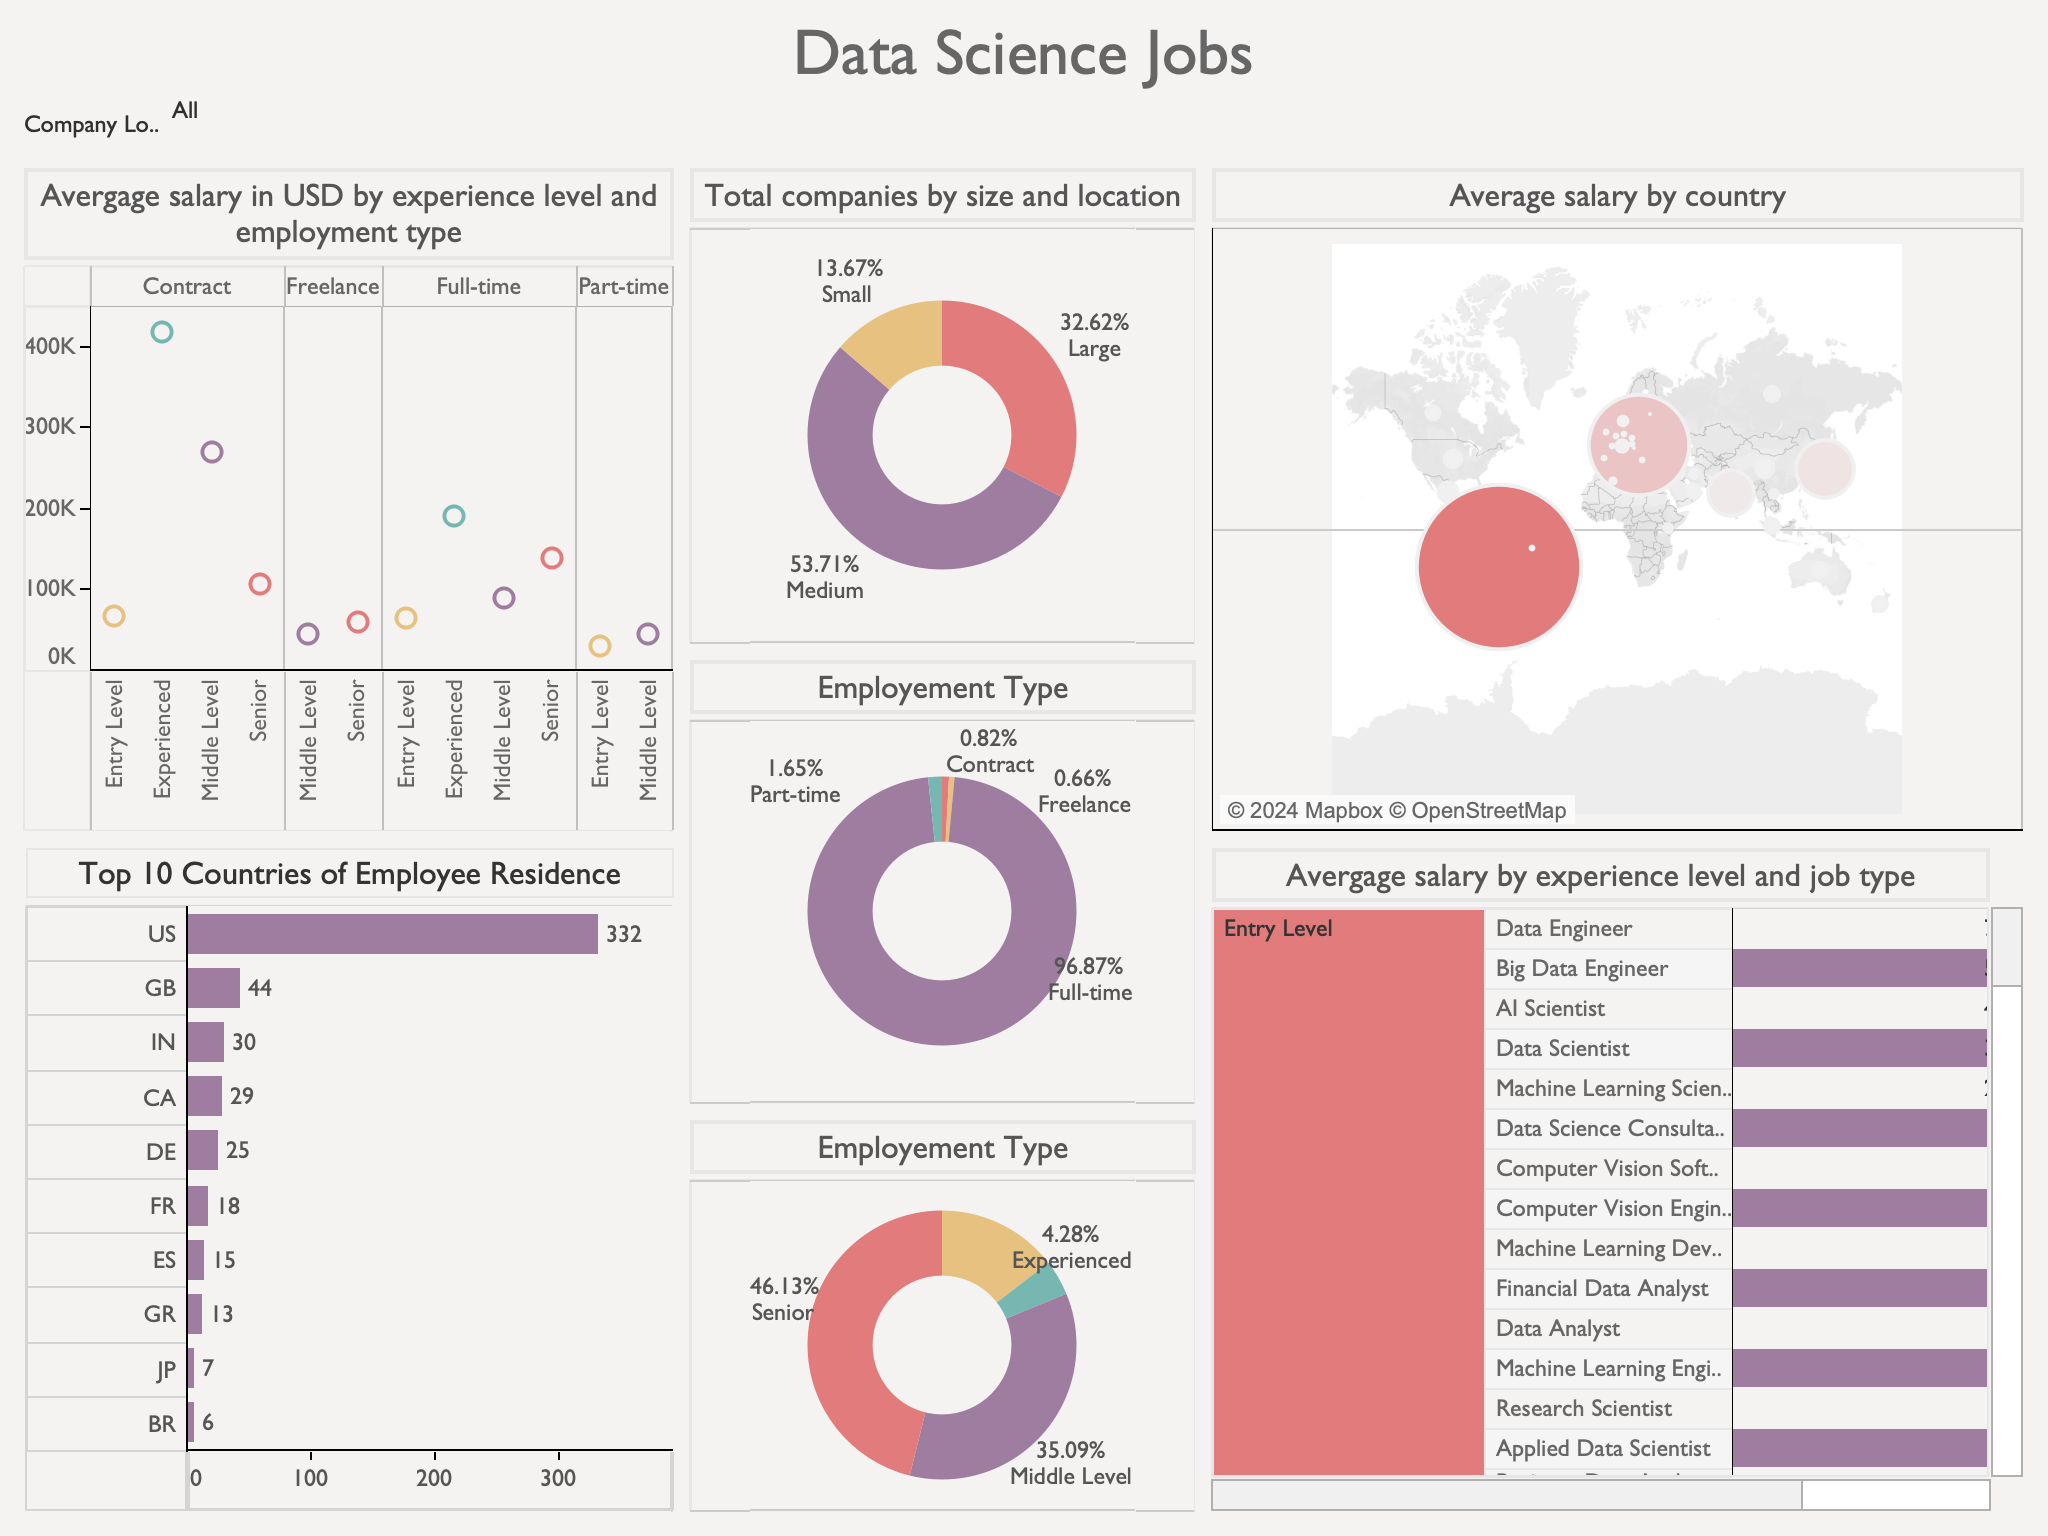

What the dashboard file says about the page in this screenshot:
{"tool":"tableau","page":{"name":"Dashboard 1","canvas":[1024,768],"ordinal":0},"visuals":[{"type":"text","box":[8,8,1008,36]},{"type":"filter","title":"Average salary","param":"[federated.14panq51umtqo319j6tvi06lqgd4].[none:company_location:nk]","box":[8,44,1008,36]},{"type":"worksheet","title":"Average salary","mark":"Shape","rows":["salary_in_usd"],"cols":["employment_type","experience_level"],"box":[8,79.9,333.2,340]},{"type":"worksheet","title":"Total companies by size and location","mark":"Pie","rows":["Calculation_1144055046649782273","Calculation_1144055046650032131"],"box":[341.2,79.9,261.1,245.7]},{"type":"worksheet","title":"map","mark":"Automatic","box":[602.4,79.9,413.6,340]},{"type":"worksheet","title":"Employment Type","mark":"Pie","rows":["Calculation_1144055046649782273","Calculation_1144055046650032131"],"box":[341.2,325.6,261.1,230.5]},{"type":"worksheet","title":"Job and experience","mark":"Automatic","rows":["experience_level","job_title"],"box":[602.4,419.9,413.6,340.1]},{"type":"worksheet","title":"Top 10 countries","mark":"Automatic","rows":["employee_residence"],"cols":["employee_residence"],"box":[8,420,333.2,340]},{"type":"worksheet","title":"Experience level 2","mark":"Pie","rows":["Calculation_1144055046649782273","Calculation_1144055046650032131"],"box":[341.2,556.1,261.1,203.9]}]}

Visuals, with their boxes in screenshot pixels (x1, y1, x2, y2), scaled from the page's 1024x768 canvas onto the 2048x1536 screenshot:
text: [16,16,2032,88]
"Average salary" filter: [16,88,2032,160]
"Average salary" worksheet (Shape marks): [16,160,682,840]
"Total companies by size and location" worksheet (Pie marks): [682,160,1205,651]
"map" worksheet: [1205,160,2032,840]
"Employment Type" worksheet (Pie marks): [682,651,1205,1112]
"Job and experience" worksheet: [1205,840,2032,1520]
"Top 10 countries" worksheet: [16,840,682,1520]
"Experience level 2" worksheet (Pie marks): [682,1112,1205,1520]
